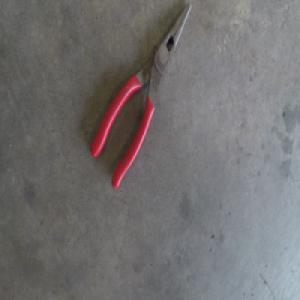Pliers: (86, 6, 189, 193)
